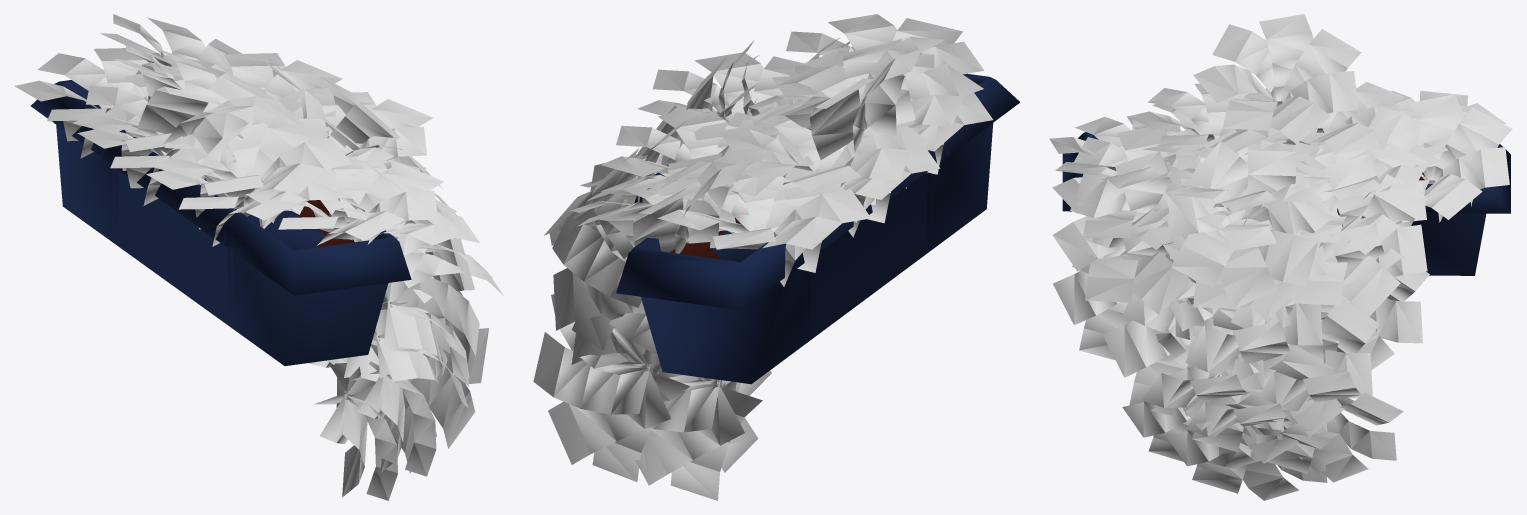
Rendered from Plant_HangingPlant_a.fbx.
The picture shows the model from 3 angles, left to right: view 1: azimuth 30°, elevation 25°; view 2: azimuth 150°, elevation 25°; view 3: azimuth 270°, elevation 25°; orthographic projection. The views are drawn at different scales.
Visible parts, largest first — view 1: PlantHangerLong, Foliage.007, Foliage.025, Foliage.003, Foliage.022, Foliage.016, Foliage.024, Foliage.026, Foliage.002, Foliage.001, Foliage.004, Foliage.008 (+7 smaller); view 2: PlantHangerLong, Foliage.023, Foliage.025, Foliage.024, Foliage.026, Foliage.009, Foliage.017, Foliage.008, Foliage.001, Foliage.002, Foliage.003, Foliage.007 (+6 smaller); view 3: Foliage.012, Foliage.025, Foliage.009, Foliage.013, Foliage.014, Foliage.023, Foliage.024, Foliage.021, Foliage.019, Foliage.020, Foliage.017, Foliage.022 (+14 smaller).
Part boxes in pixels (x1,y1,x2,y2): PlantHangerLong: (31,80,411,365); Foliage.007: (151,120,351,223); Foliage.025: (113,45,299,159); Foliage.003: (246,156,444,245); Foliage.022: (352,291,488,476); Foliage.016: (383,205,479,386); Foliage.024: (314,361,436,500); Foliage.026: (14,47,177,158); Foliage.002: (267,92,433,176); Foliage.001: (177,53,342,126); Foliage.004: (146,148,338,246); Foliage.008: (72,72,272,183); PlantHangerLong: (616,73,1020,384); Foliage.023: (533,294,690,481); Foliage.025: (748,37,944,159); Foliage.024: (635,375,762,500); Foliage.026: (657,161,870,286); Foliage.009: (571,150,771,253); Foliage.017: (552,156,645,350); Foliage.008: (719,103,930,222); Foliage.001: (601,108,814,200); Foliage.002: (637,52,805,140); Foliage.003: (786,14,984,76); Foliage.007: (772,49,983,139); Foliage.012: (1165,141,1334,309); Foliage.025: (1193,14,1361,143); Foliage.009: (1347,94,1512,222); Foliage.013: (1052,150,1196,314); Foliage.014: (1294,153,1427,317); Foliage.023: (1245,371,1403,482); Foliage.024: (1166,402,1333,500); Foliage.021: (1170,321,1334,463); Foliage.019: (1103,281,1271,430); Foliage.020: (1225,292,1379,436); Foliage.017: (1275,223,1429,369); Foliage.022: (1122,364,1290,468).
Bounding box in the file's own units: 0.7808 × 1.12 × 1.07.
